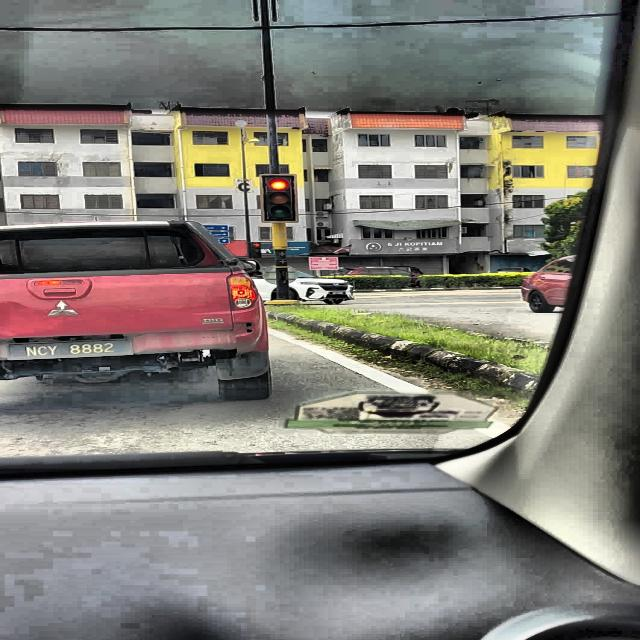red: (262, 174, 296, 222), (249, 242, 261, 257)
